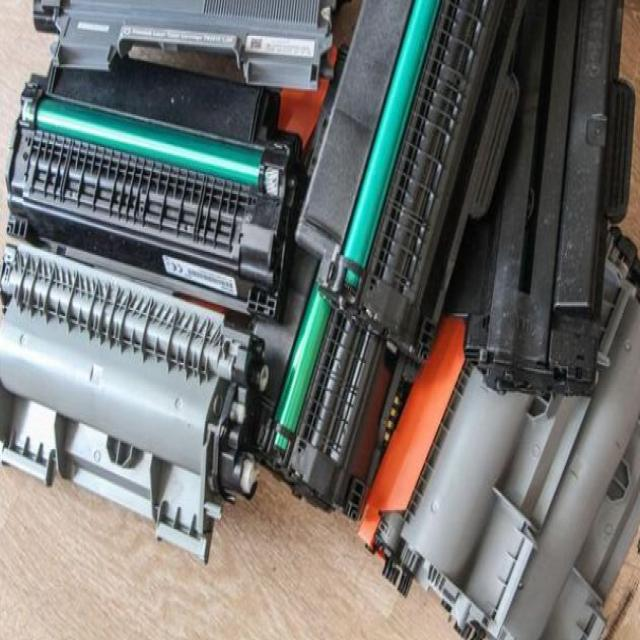electronic: (0, 237, 243, 639), (0, 55, 335, 312)
